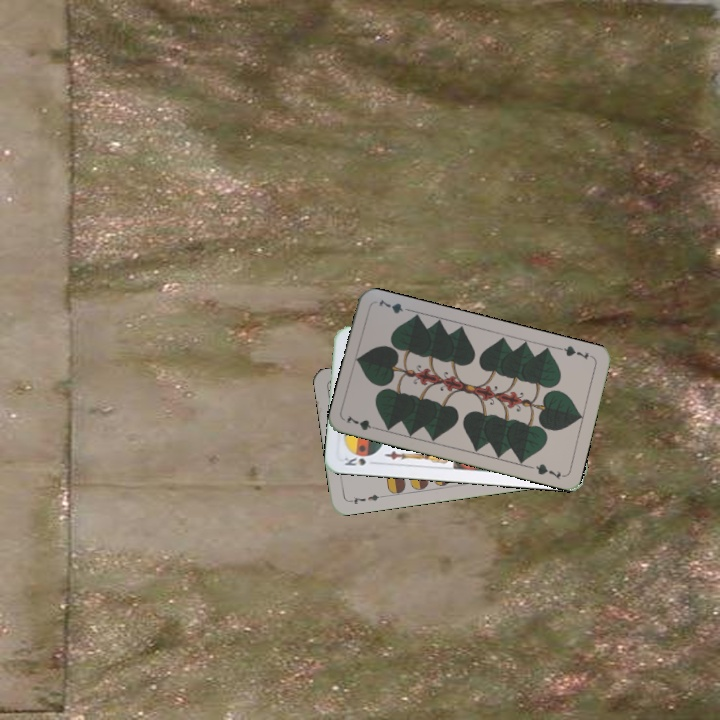E7: (345, 490, 385, 507)
G7: (342, 412, 382, 433), (555, 342, 595, 362)
SK: (340, 453, 368, 468)
